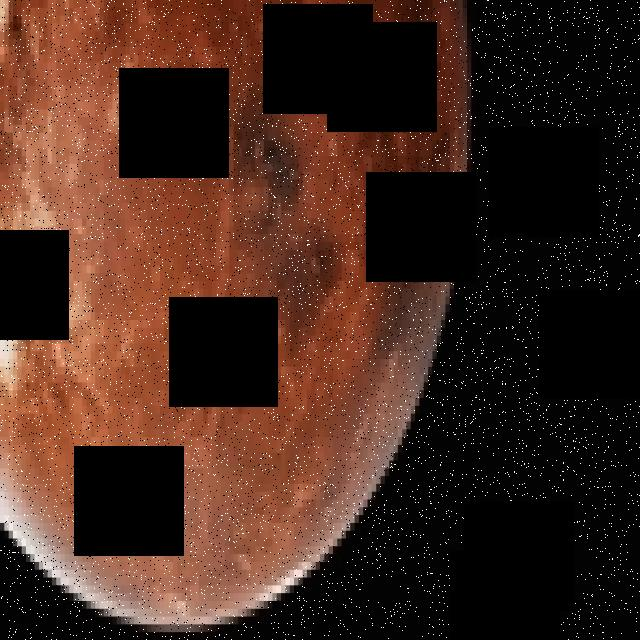Venus: (0, 0, 471, 632)
